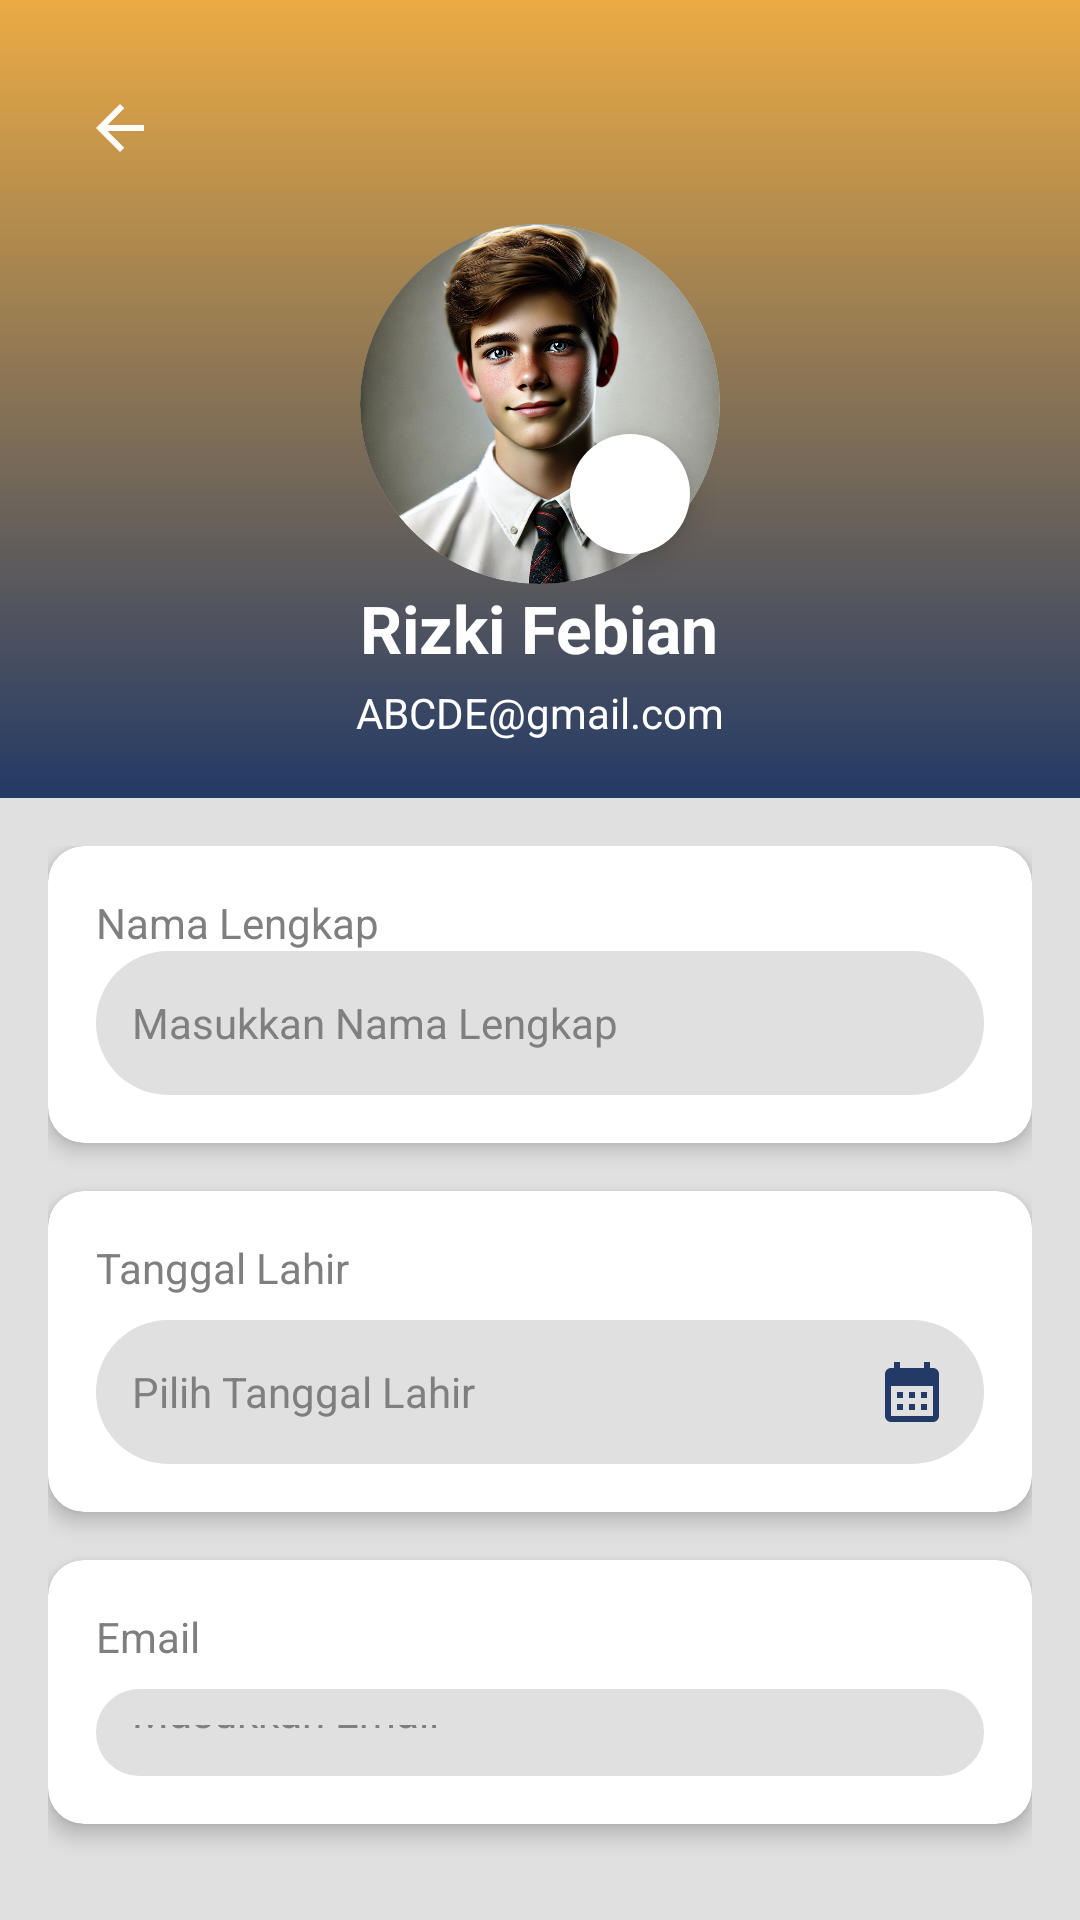

Point at icon controls on the screen. Image size 1080×1920, points as point (x, y).
Foto profil pengguna: point (540, 404)
